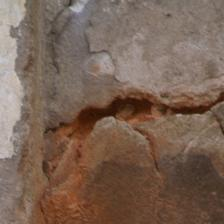Crack: (23, 42, 198, 138)
